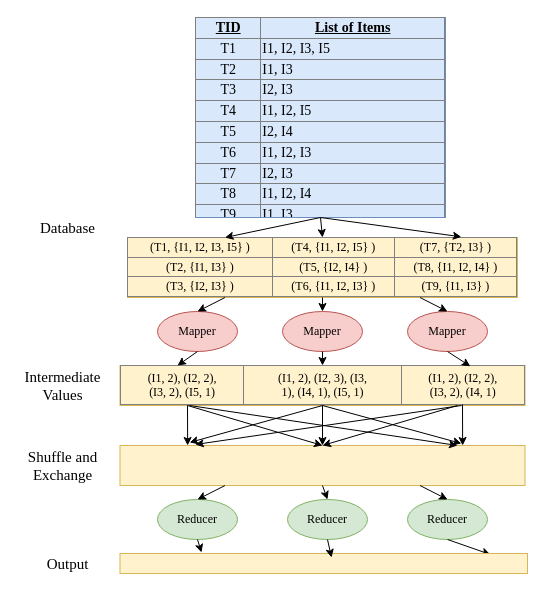
Image size: 545x591. Some labels were removed from this diagram. Here are the shapes that lost their labels. From the top down, the centre of each, then its label:
(322,465): (I1, {2, 2, 2}), (I4, {1, 1}) (I2, {2, 3, 2}), (I5, {1, 1}) (I3, {3, 1, 2})
(323,563): (I1, 6), (I4, 2) (I2, 7), (I5, 2) (I3, 6)
